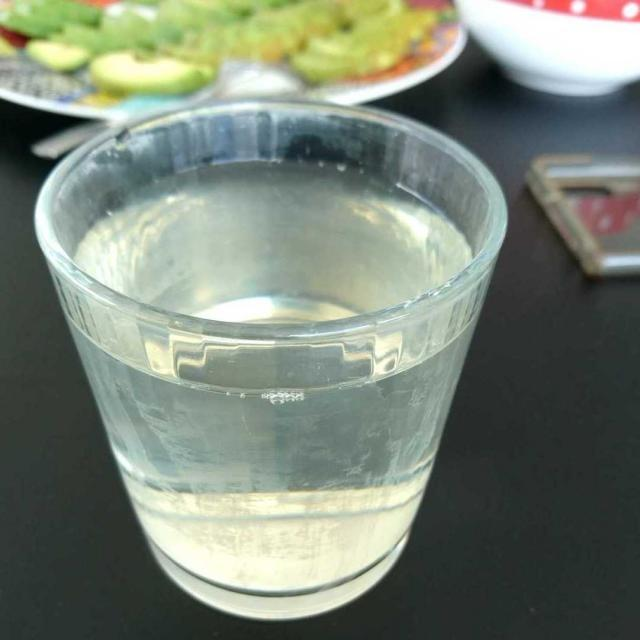tea: (64, 148, 485, 580), (59, 166, 493, 583), (75, 157, 479, 457)
